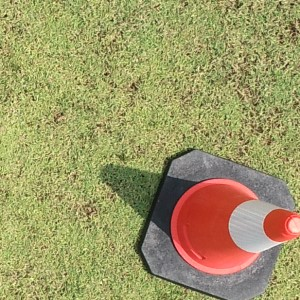traffic cone: (140, 149, 300, 300)
